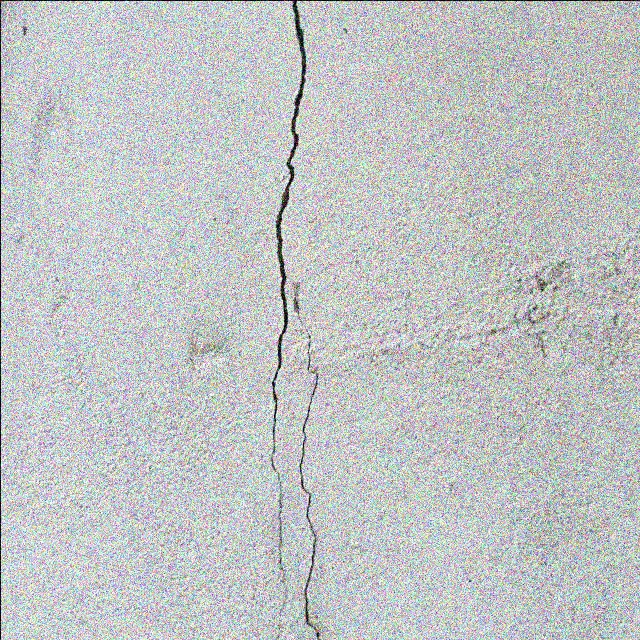SurfaceCrack: (227, 0, 359, 640)
